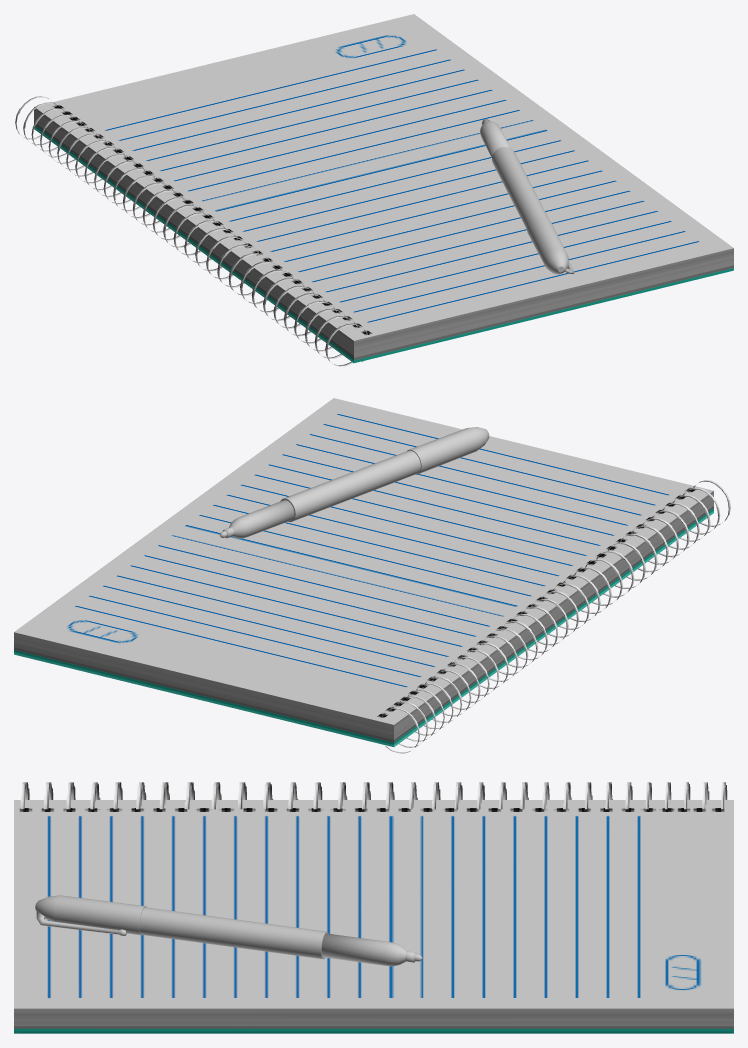
The model's file is Notepad_Open.fbx.
3 views of the same model, one above another, from view 1: azimuth 30°, elevation 25°; view 2: azimuth 150°, elevation 25°; view 3: azimuth 270°, elevation 25° (orthographic). The views are drawn at different scales.
Visible parts, largest first — view 1: notepad_bottom, Notepad, Sharpie_Marker, Sharpie_Marker_CAP; view 2: notepad_bottom, Notepad, Sharpie_Marker, Sharpie_Marker_CAP; view 3: notepad_bottom, Sharpie_Marker, Notepad, Sharpie_Marker_CAP.
Part boxes in pixels (<box>): notepad_bottom: <box>34,14,733,363</box>; Notepad: <box>15,96,367,366</box>; Sharpie_Marker: <box>480,119,548,229</box>; Sharpie_Marker_CAP: <box>527,216,574,274</box>; notepad_bottom: <box>14,398,713,747</box>; Notepad: <box>381,480,730,753</box>; Sharpie_Marker: <box>219,450,420,538</box>; Sharpie_Marker_CAP: <box>407,427,489,474</box>; notepad_bottom: <box>14,800,733,1033</box>; Sharpie_Marker: <box>139,907,422,966</box>; Notepad: <box>20,782,727,809</box>; Sharpie_Marker_CAP: <box>35,895,146,935</box>.
Bounding box in the file's own units: 26.43 × 3.3 × 36.46.
